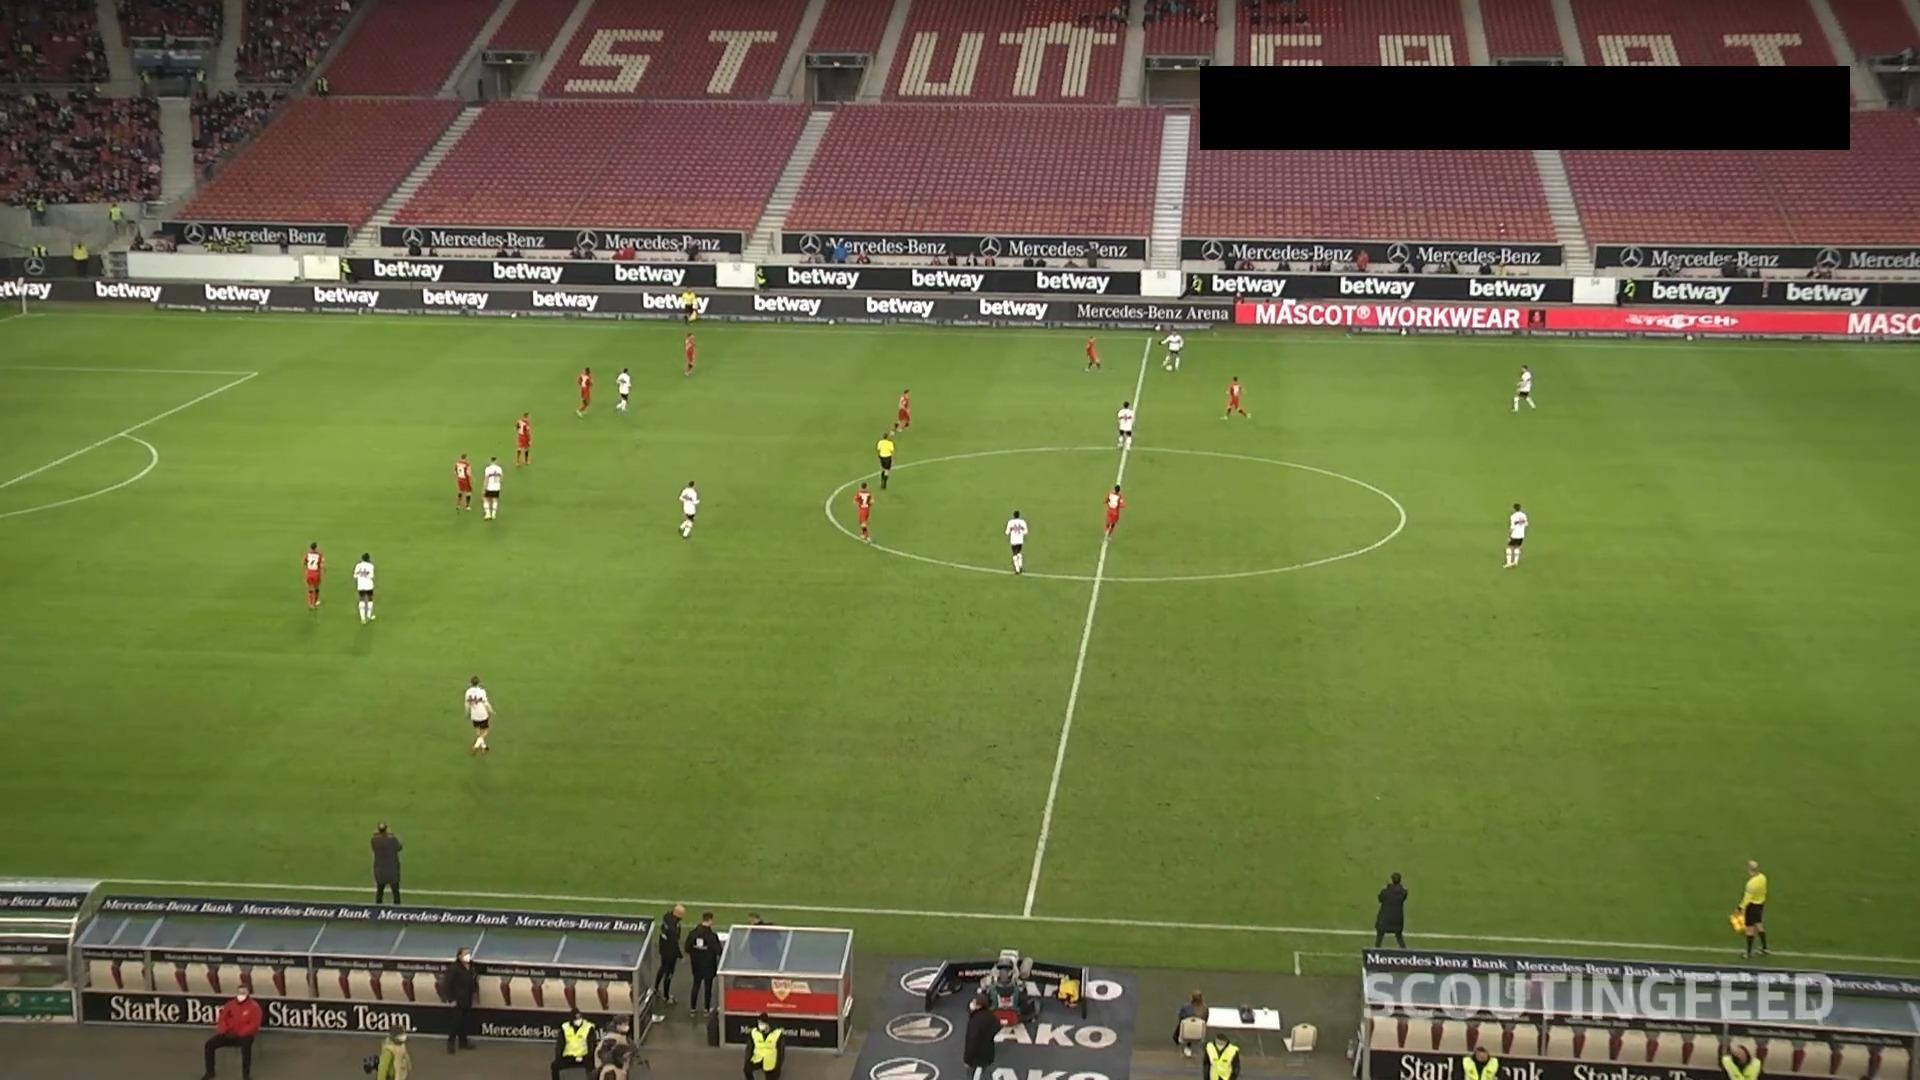ball: (1164, 363, 1174, 373)
